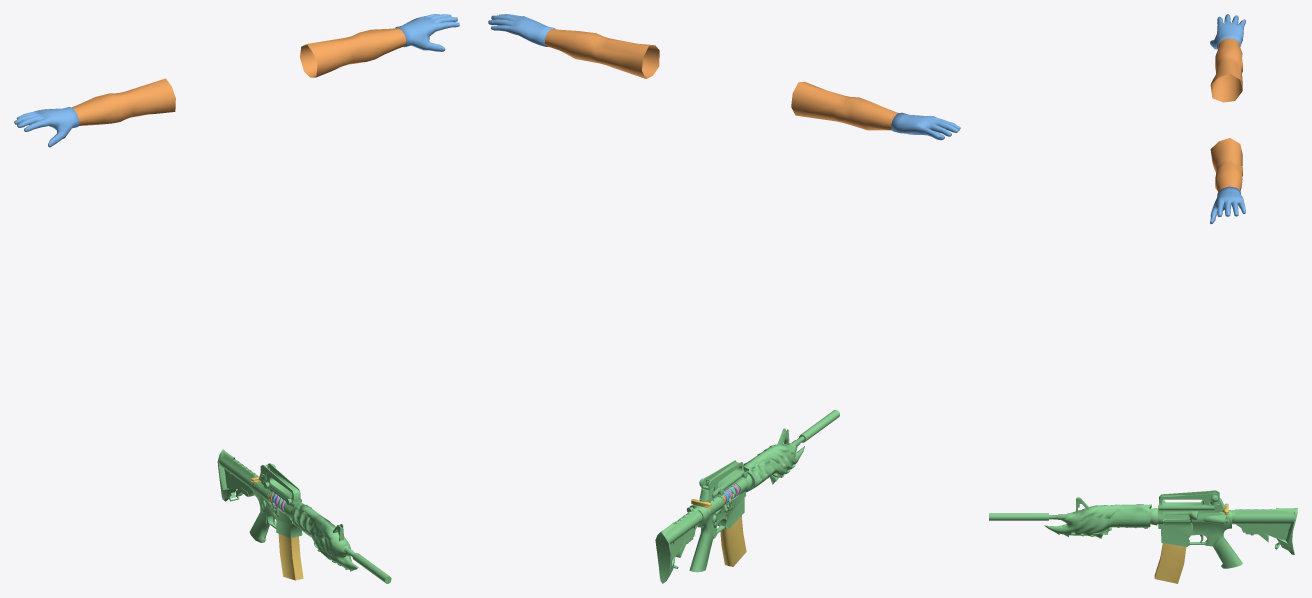
File: PV-M4A1_S_BornBeast_Classic.obj
3 renders of one model, left to right at view 1: azimuth 30°, elevation 25°; view 2: azimuth 150°, elevation 25°; view 3: azimuth 270°, elevation 25°, orthographic. The views are drawn at different scales.
Visible parts, largest first — view 1: PV-M4A1_S_BornBeast_Classic_M4A1S_BornBeast, PV-M4A1_S_BornBeast_Classic_Fview-arm2, PV-M4A1_S_BornBeast_Classic_Fview-hand2, PV-M4A1_S_BornBeast_Classic_M4A1S_BornBeast01; view 2: PV-M4A1_S_BornBeast_Classic_M4A1S_BornBeast, PV-M4A1_S_BornBeast_Classic_Fview-arm2, PV-M4A1_S_BornBeast_Classic_Fview-hand2, PV-M4A1_S_BornBeast_Classic_M4A1S_BornBeast01; view 3: PV-M4A1_S_BornBeast_Classic_M4A1S_BornBeast, PV-M4A1_S_BornBeast_Classic_Fview-arm2, PV-M4A1_S_BornBeast_Classic_Fview-hand2, PV-M4A1_S_BornBeast_Classic_M4A1S_BornBeast01.
Boxes of the visible parts, x1,y1,x2,y2 form: PV-M4A1_S_BornBeast_Classic_M4A1S_BornBeast: [217, 449, 391, 583]; PV-M4A1_S_BornBeast_Classic_Fview-arm2: [71, 28, 406, 125]; PV-M4A1_S_BornBeast_Classic_Fview-hand2: [14, 14, 459, 147]; PV-M4A1_S_BornBeast_Classic_M4A1S_BornBeast01: [278, 534, 303, 580]; PV-M4A1_S_BornBeast_Classic_M4A1S_BornBeast: [655, 410, 839, 583]; PV-M4A1_S_BornBeast_Classic_Fview-arm2: [545, 29, 897, 130]; PV-M4A1_S_BornBeast_Classic_Fview-hand2: [488, 14, 960, 140]; PV-M4A1_S_BornBeast_Classic_M4A1S_BornBeast01: [720, 516, 746, 566]; PV-M4A1_S_BornBeast_Classic_M4A1S_BornBeast: [989, 490, 1297, 568]; PV-M4A1_S_BornBeast_Classic_Fview-arm2: [1210, 38, 1242, 192]; PV-M4A1_S_BornBeast_Classic_Fview-hand2: [1210, 14, 1245, 223]; PV-M4A1_S_BornBeast_Classic_M4A1S_BornBeast01: [1154, 543, 1186, 583].
Bounding box in the file's own units: 28.52 × 30.91 × 18.56.
